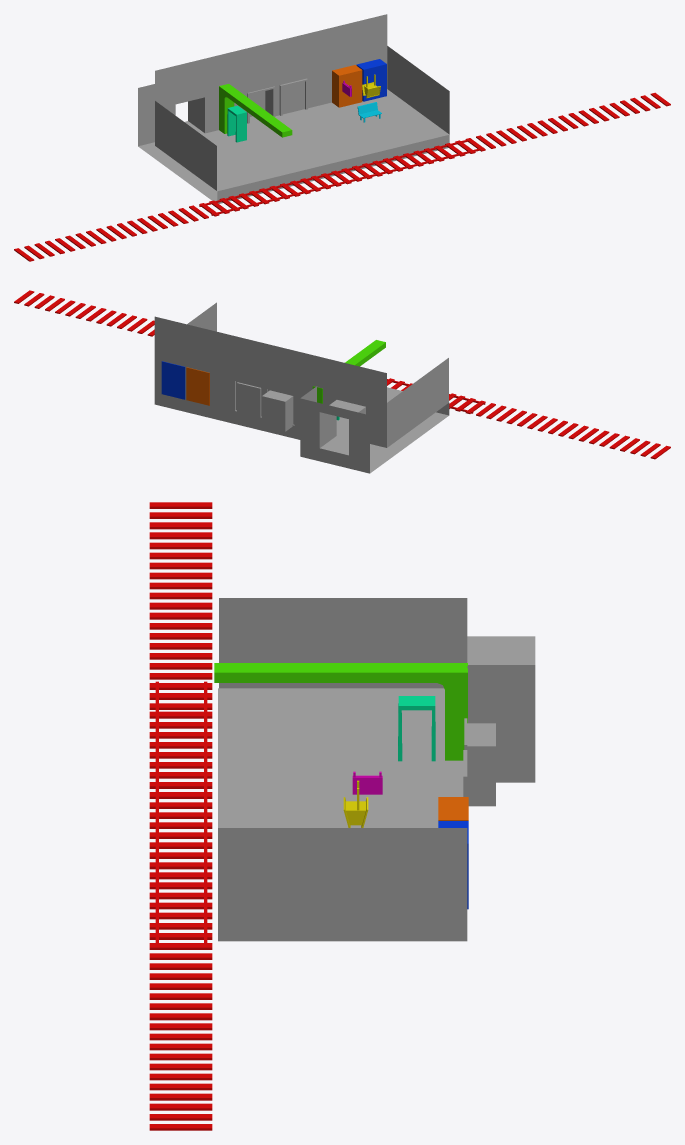
File: Subway.fbx
The picture shows the model from 3 angles, top to bottom: view 1: azimuth 30°, elevation 25°; view 2: azimuth 150°, elevation 25°; view 3: azimuth 270°, elevation 25°; orthographic projection. The views are drawn at different scales.
Parts seen in each view (by area): view 1: Outer, Track, Stand, Soda_Machine, Soda_Machine1, Scanner; view 2: Outer, Track, Soda_Machine1, Soda_Machine, Stand; view 3: Outer, Track, Stand, Scanner.
Boxes of the visible parts, <box> form: Outer: <box>138,14,449,203</box>; Track: <box>14,92,670,261</box>; Stand: <box>219,84,292,137</box>; Soda_Machine: <box>332,65,362,107</box>; Soda_Machine1: <box>356,59,386,101</box>; Scanner: <box>227,105,246,142</box>; Outer: <box>154,302,449,473</box>; Track: <box>14,290,670,459</box>; Soda_Machine1: <box>161,361,185,399</box>; Soda_Machine: <box>186,367,209,405</box>; Stand: <box>312,340,385,403</box>; Outer: <box>218,598,535,941</box>; Track: <box>149,502,212,1130</box>; Stand: <box>214,663,467,760</box>; Scanner: <box>398,696,435,761</box>.
Bounding box in the file's own units: 5269 × 691 × 1372.
